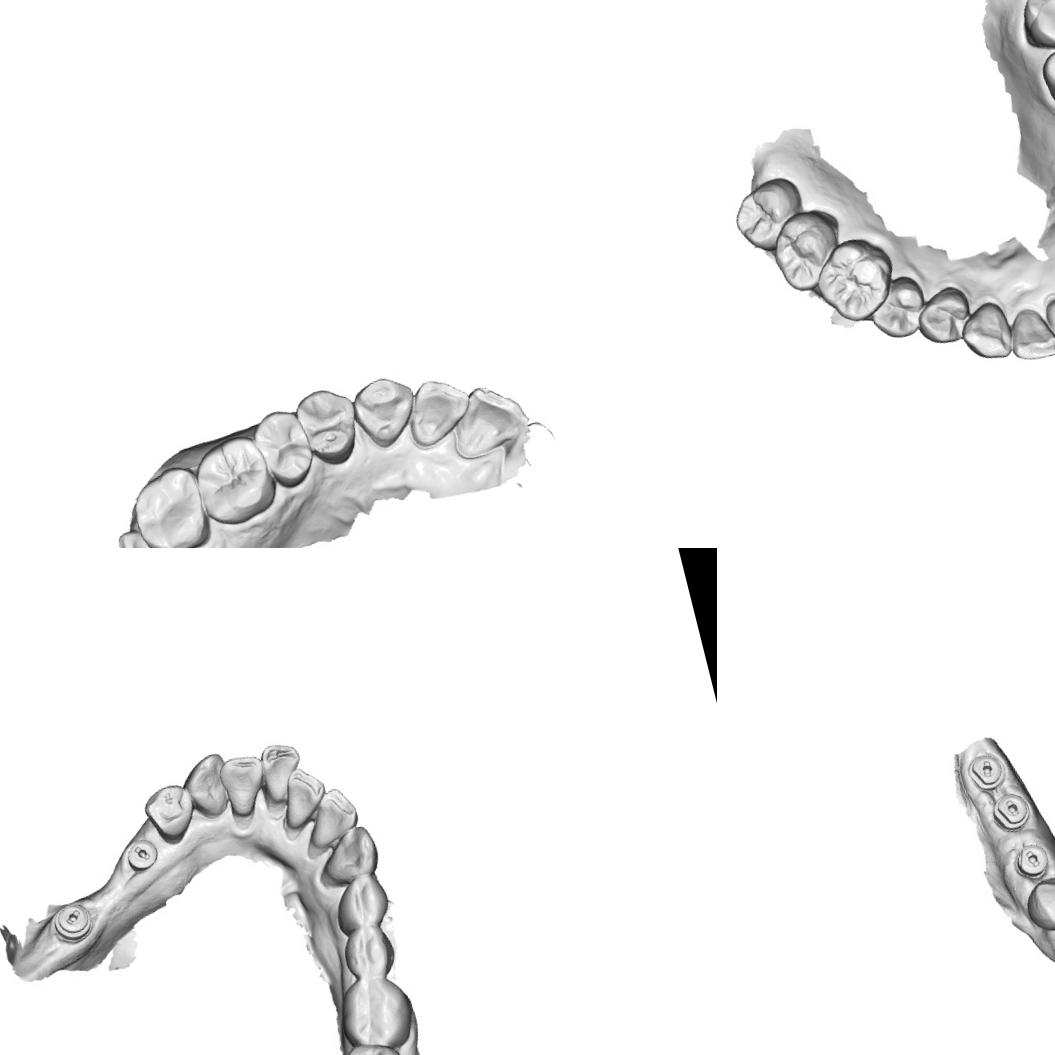canine: (346, 369, 424, 454), (310, 821, 386, 893), (176, 750, 238, 825), (953, 296, 1016, 368)
implant_minus: (46, 898, 98, 948), (986, 786, 1037, 836), (1005, 838, 1054, 886), (962, 748, 1010, 796), (119, 833, 163, 877)
incisor: (442, 376, 535, 465), (398, 371, 479, 452), (291, 782, 367, 860), (270, 760, 334, 839), (213, 747, 272, 823), (254, 737, 311, 811), (1002, 300, 1055, 367), (1039, 285, 1055, 373)
molar: (803, 228, 904, 330), (188, 430, 278, 532), (328, 965, 421, 1055), (763, 202, 849, 298), (123, 460, 215, 548), (725, 171, 813, 257), (1011, 0, 1055, 56), (327, 1031, 421, 1055), (1035, 32, 1055, 116)
premolar: (290, 382, 366, 473), (250, 404, 319, 492), (862, 270, 934, 346), (325, 868, 397, 938), (909, 280, 978, 350), (138, 778, 203, 850), (334, 919, 399, 983), (1018, 868, 1055, 936)
